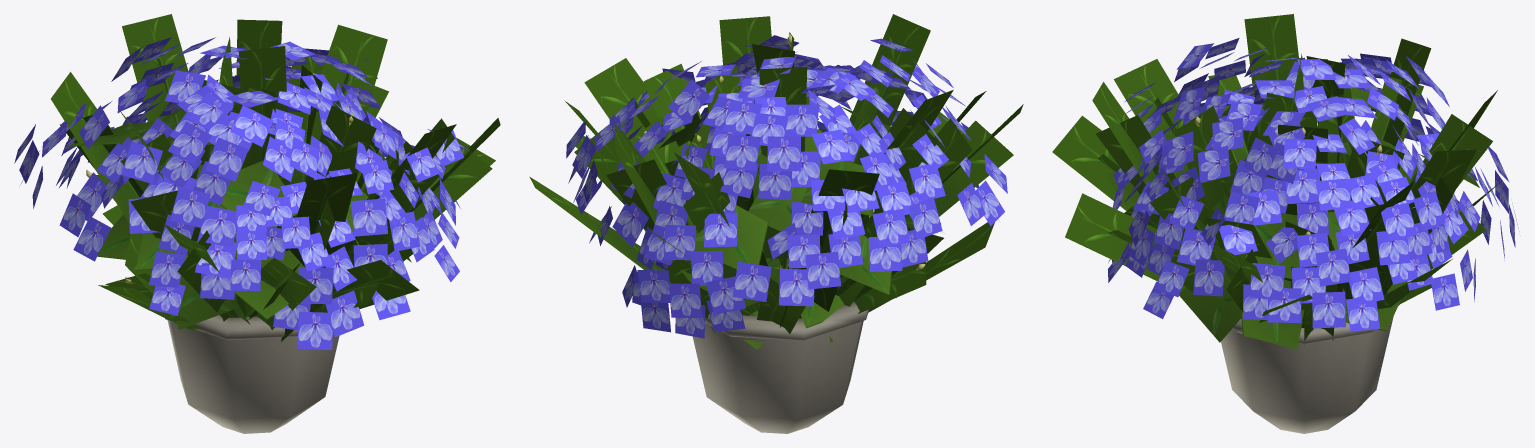
Rendered from Furniture_foliageplant_11_LOD1.fbx.
The picture shows the model from 3 angles, left to right: view 1: azimuth 30°, elevation 25°; view 2: azimuth 150°, elevation 25°; view 3: azimuth 270°, elevation 25°; orthographic projection. The views are drawn at different scales.
Visible parts, largest first — view 1: F_foliageplant_11_LOD1_01, F_foliageplant_11_LOD1_02; view 2: F_foliageplant_11_LOD1_01, F_foliageplant_11_LOD1_02; view 3: F_foliageplant_11_LOD1_01, F_foliageplant_11_LOD1_02.
Part boxes in pixels (x1=…): F_foliageplant_11_LOD1_01: x1=14, y1=14, x2=500, y2=349; F_foliageplant_11_LOD1_02: x1=165, y1=315, x2=339, y2=433; F_foliageplant_11_LOD1_01: x1=529, y1=14, x2=1023, y2=349; F_foliageplant_11_LOD1_02: x1=692, y1=301, x2=868, y2=433; F_foliageplant_11_LOD1_01: x1=1052, y1=14, x2=1519, y2=349; F_foliageplant_11_LOD1_02: x1=1221, y1=304, x2=1399, y2=433.
Size of the model in its own units: 58.02 by 49.43 by 58.36.
